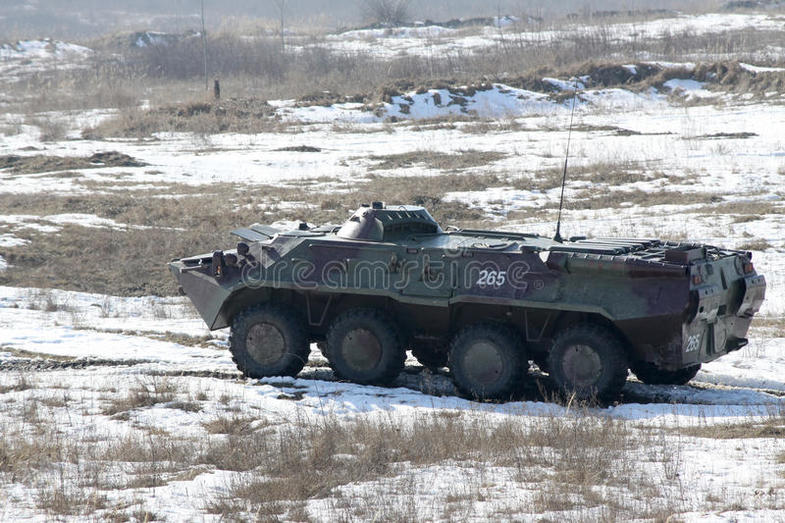btr: (171, 209, 759, 402)
